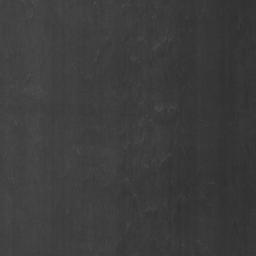Silk spot: (0, 0, 256, 256), (220, 7, 254, 109), (232, 208, 249, 256), (224, 112, 239, 144)
